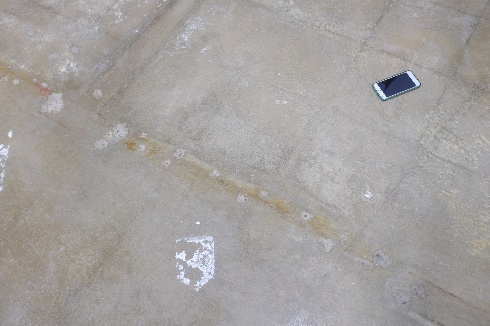phone: (375, 69, 424, 101)
